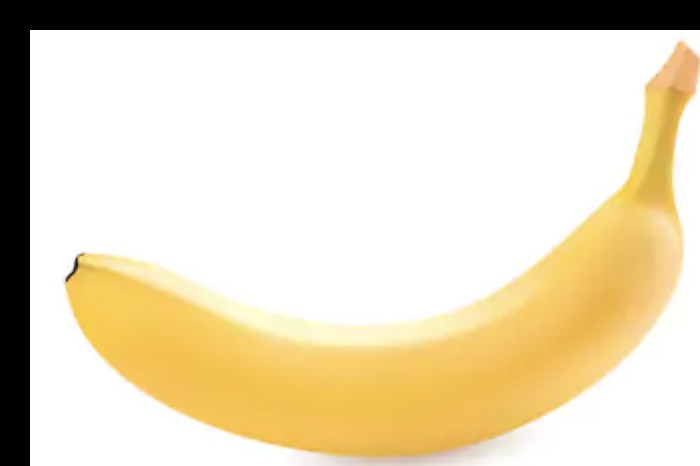fresh_banana: (64, 40, 700, 457)
